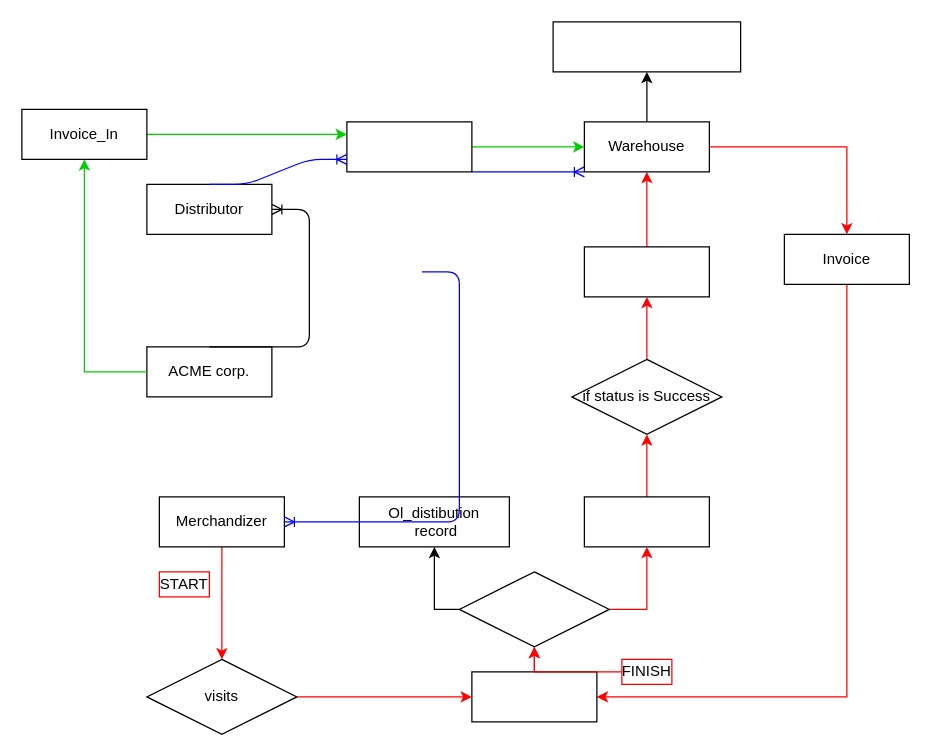
Some shapes in this 931 by 756 pixel diagram are drawn without their labels. Here are the shapes that lost their labels. From the top down, the centre of each, then its label:
At point 646,46: "Fact_Archived_Stocks".
At point 409,146: "Customer".
At point 646,271: "Order".
At point 646,521: "OL_card".
At point 533,609: "makes".
At point 534,696: "Outlet".
